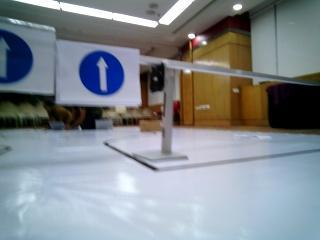straight: (57, 38, 142, 103), (2, 20, 53, 96)
